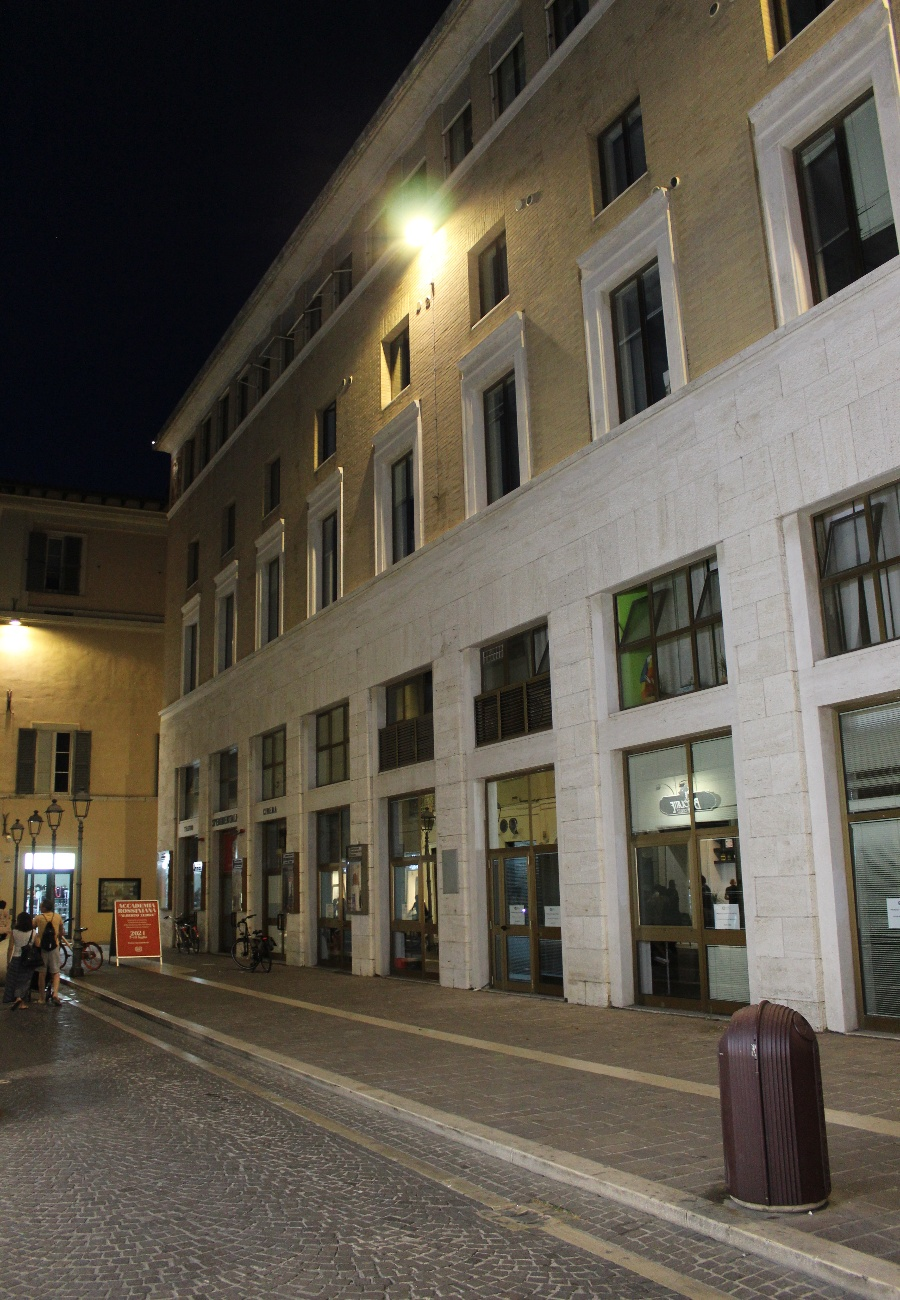Teatro Sperimentale: (141, 1, 900, 1042)
